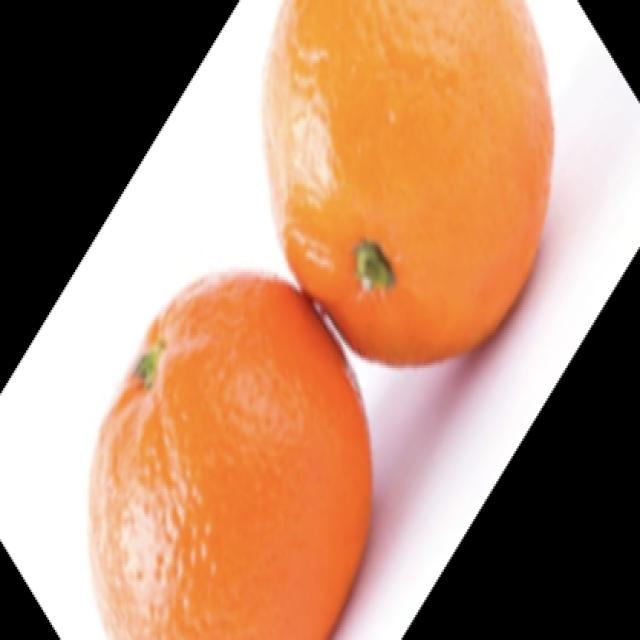Orange: (260, 0, 555, 367), (87, 268, 373, 639)
